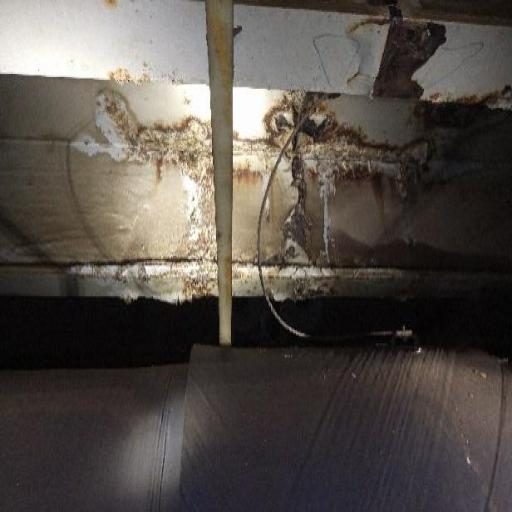Detect-rust-on-metal-surfaces: (69, 13, 510, 307)
